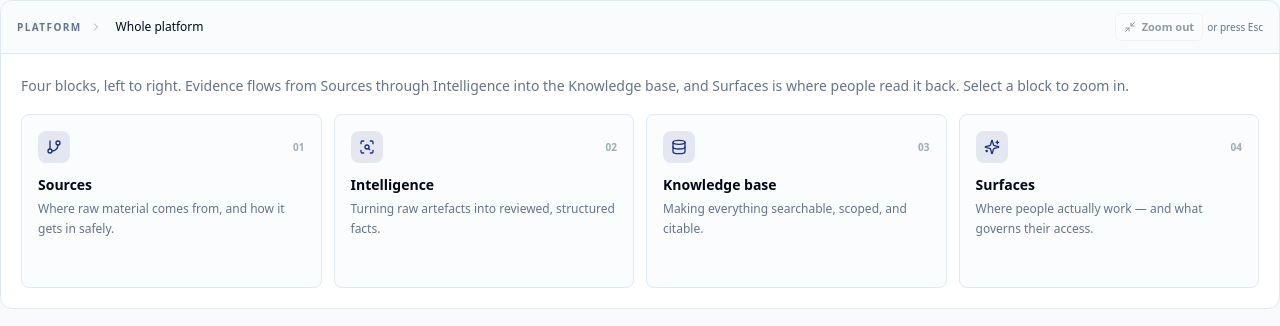
ArchitectureExplorer › zooms out on Escape
This screenshot has width=1280, height=326.
Click the text "Intelligence" at (392,184), box x1=350 y1=175 x2=434 y2=194
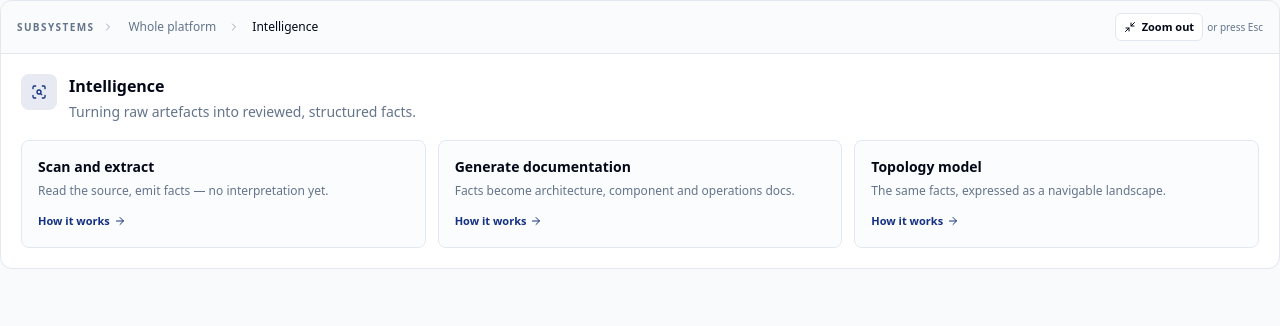
Expected: the text "Scan and extract" is shown, x1=38 y1=157 x2=154 y2=176
Press Escape
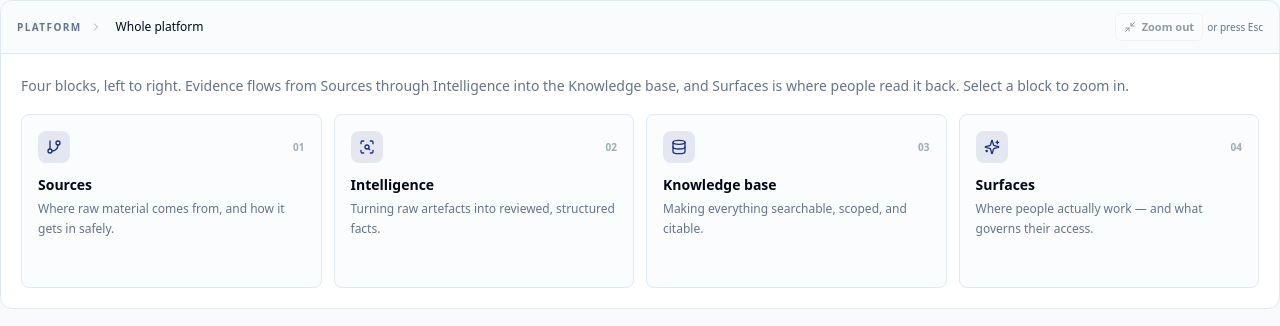
Expected: the text "Surfaces" is shown, x1=976 y1=175 x2=1035 y2=194
